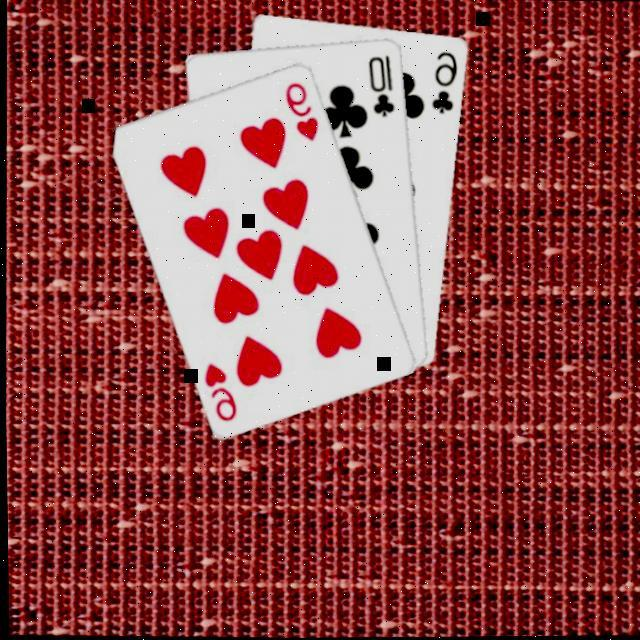10C: (362, 50, 396, 119)
6C: (425, 46, 459, 116)
9H: (195, 357, 238, 424), (278, 78, 320, 142)
